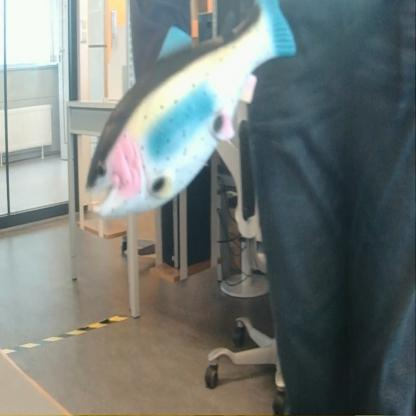rubberfish: (81, 0, 298, 234)
